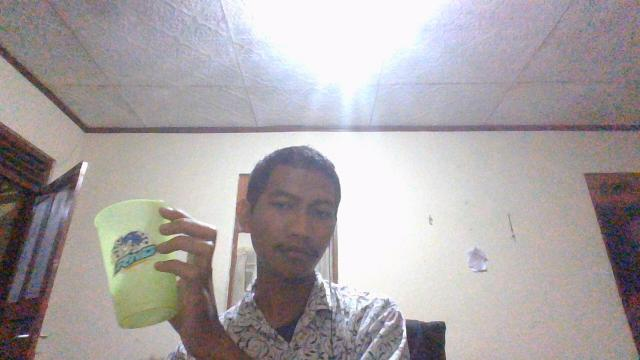botol-hijau: (92, 198, 186, 330)
